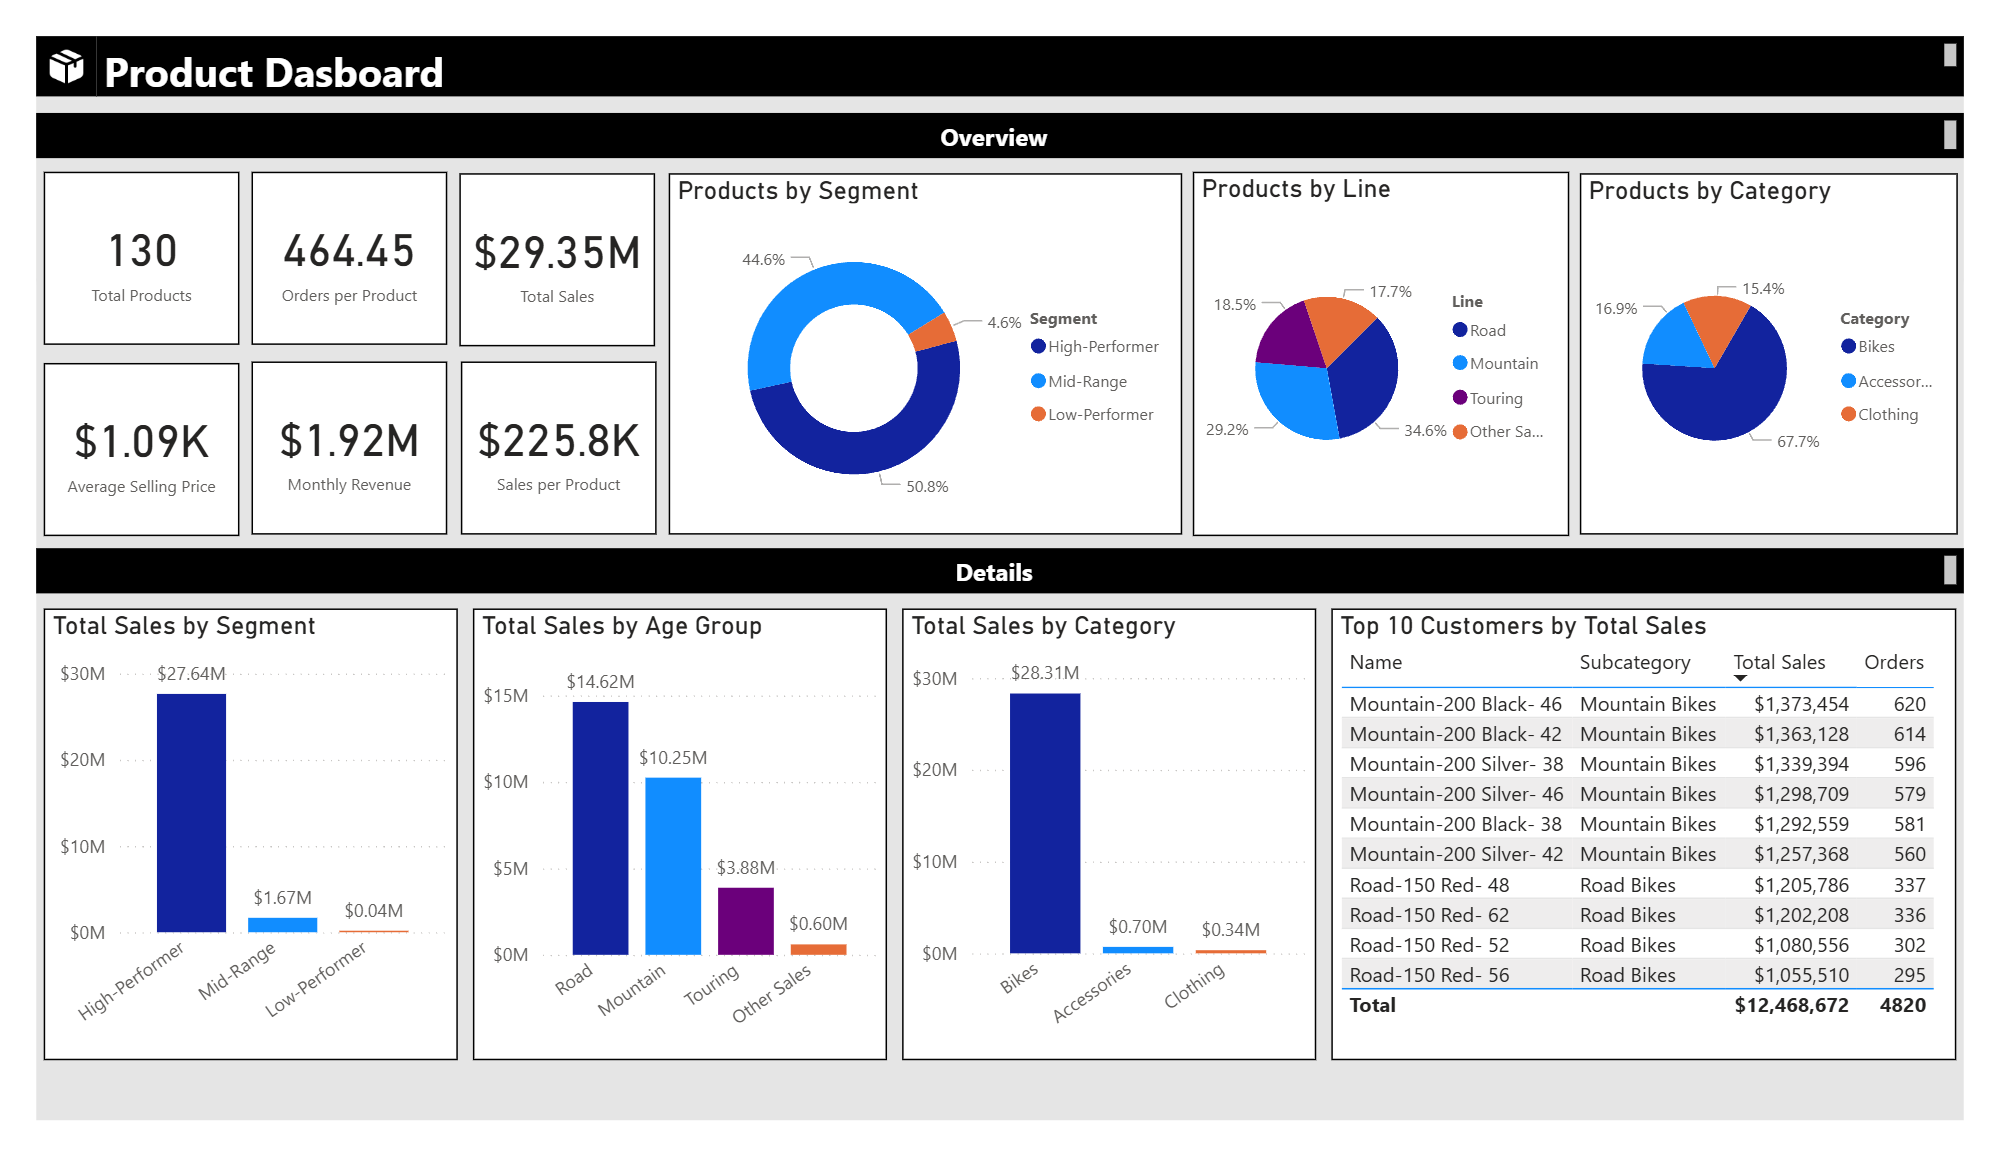

This screenshot's page, from the dashboard's own definition file:
{"tool":"powerbi","page":{"name":"Product Dashboard","canvas":[1280,720],"ordinal":1},"visuals":[{"type":"textbox","box":[40.2,0,1239.8,40.2],"z":0},{"type":"columnChart","title":"Total Sales by Category","fields":{"Category":["gold report_products.category"],"Y":["Sum(gold report_products.total_sales)"]},"box":[575,379.8,275.5,300.1],"z":1000},{"type":"columnChart","title":"Total Sales by Segment","fields":{"Category":["gold report_products.product_segment"],"Y":["Sum(gold report_products.total_sales)"]},"box":[5,380.3,275,300],"z":2000},{"type":"columnChart","title":"Total Sales by Age Group","fields":{"Category":["gold report_products.product_line"],"Y":["Sum(gold report_products.total_sales)"]},"box":[290,379.8,275.5,300.1],"z":3000},{"type":"tableEx","title":"Top 10 Customers by Total Sales","fields":{"Values":["gold report_products.product_name","gold report_products.subcategory","Sum(gold report_products.total_sales)","Sum(gold report_products.total_orders)"]},"box":[860,380.2,415,300.3],"z":4000},{"type":"card","fields":{"Values":["Sum(gold report_products.total_sales)"]},"box":[280.8,90.5,130,115.1],"z":5000},{"type":"textbox","box":[0,50.8,1280,30],"z":6000},{"type":"card","fields":{"Values":["Avg(gold report_products.avg_selling_price)"]},"box":[4.6,217.1,130.3,115],"z":7000},{"type":"pieChart","title":"Products by Category","fields":{"Y":["Count(gold report_products.product_key)"],"Category":["gold report_products.category"]},"box":[1025,91,250.7,240],"z":8000},{"type":"textbox","box":[0,340,1280,30],"z":9000},{"type":"pieChart","title":"Products by Line","fields":{"Y":["Count(gold report_products.product_key)"],"Category":["gold report_products.product_line"]},"box":[768,90,249.7,241.6],"z":10000},{"type":"donutChart","title":"Products by Segment","fields":{"Y":["Count(gold report_products.product_key)"],"Category":["gold report_products.product_segment"]},"box":[420,91,340.7,240],"z":11000},{"type":"card","fields":{"Values":["Count(gold report_products.product_key)"]},"box":[5,90,130,115.1],"z":12000},{"type":"card","fields":{"Values":["Sum(gold report_products.avg_monthly_revenue)"]},"box":[142.9,216,130.3,115.4],"z":13000},{"type":"card","fields":{"Values":["Avg(gold report_products.total_orders)"]},"box":[143,89.5,129.9,115.1],"z":14000},{"type":"card","fields":{"Values":["Avg(gold report_products.total_sales)"]},"box":[282.3,216,130,115],"z":15000},{"type":"image","box":[0,0,39.9,39.9],"z":15001}]}

Visuals, with their boxes in screenshot pixels (x1, y1, x2, y2), scaled from the page's 1280x720 canvas onto the 2000x1156 screenshot:
textbox: region(63, 0, 1999, 65)
"Total Sales by Category" columnChart: region(898, 610, 1329, 1092)
"Total Sales by Segment" columnChart: region(8, 611, 438, 1092)
"Total Sales by Age Group" columnChart: region(453, 610, 884, 1092)
"Top 10 Customers by Total Sales" tableEx: region(1344, 610, 1992, 1093)
card - Sum(gold report_products.total_sales): region(439, 145, 642, 330)
textbox: region(0, 82, 1999, 130)
card - Avg(gold report_products.avg_selling_price): region(7, 349, 211, 533)
"Products by Category" pieChart: region(1602, 146, 1993, 531)
textbox: region(0, 546, 1999, 594)
"Products by Line" pieChart: region(1200, 144, 1590, 532)
"Products by Segment" donutChart: region(656, 146, 1189, 531)
card - Count(gold report_products.product_key): region(8, 144, 211, 329)
card - Sum(gold report_products.avg_monthly_revenue): region(223, 347, 427, 532)
card - Avg(gold report_products.total_orders): region(223, 144, 426, 328)
card - Avg(gold report_products.total_sales): region(441, 347, 644, 531)
image: region(0, 0, 62, 64)
